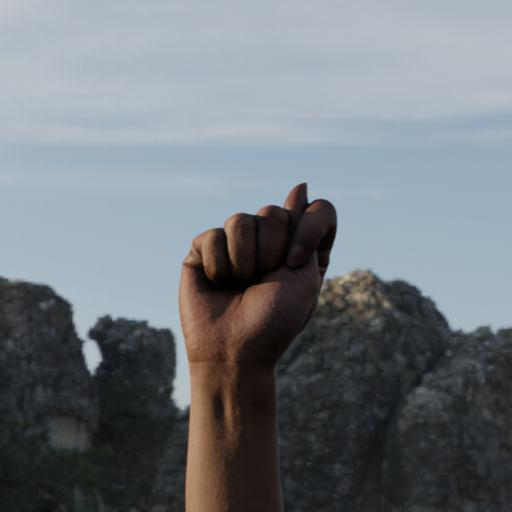T: (144, 138, 411, 373)
